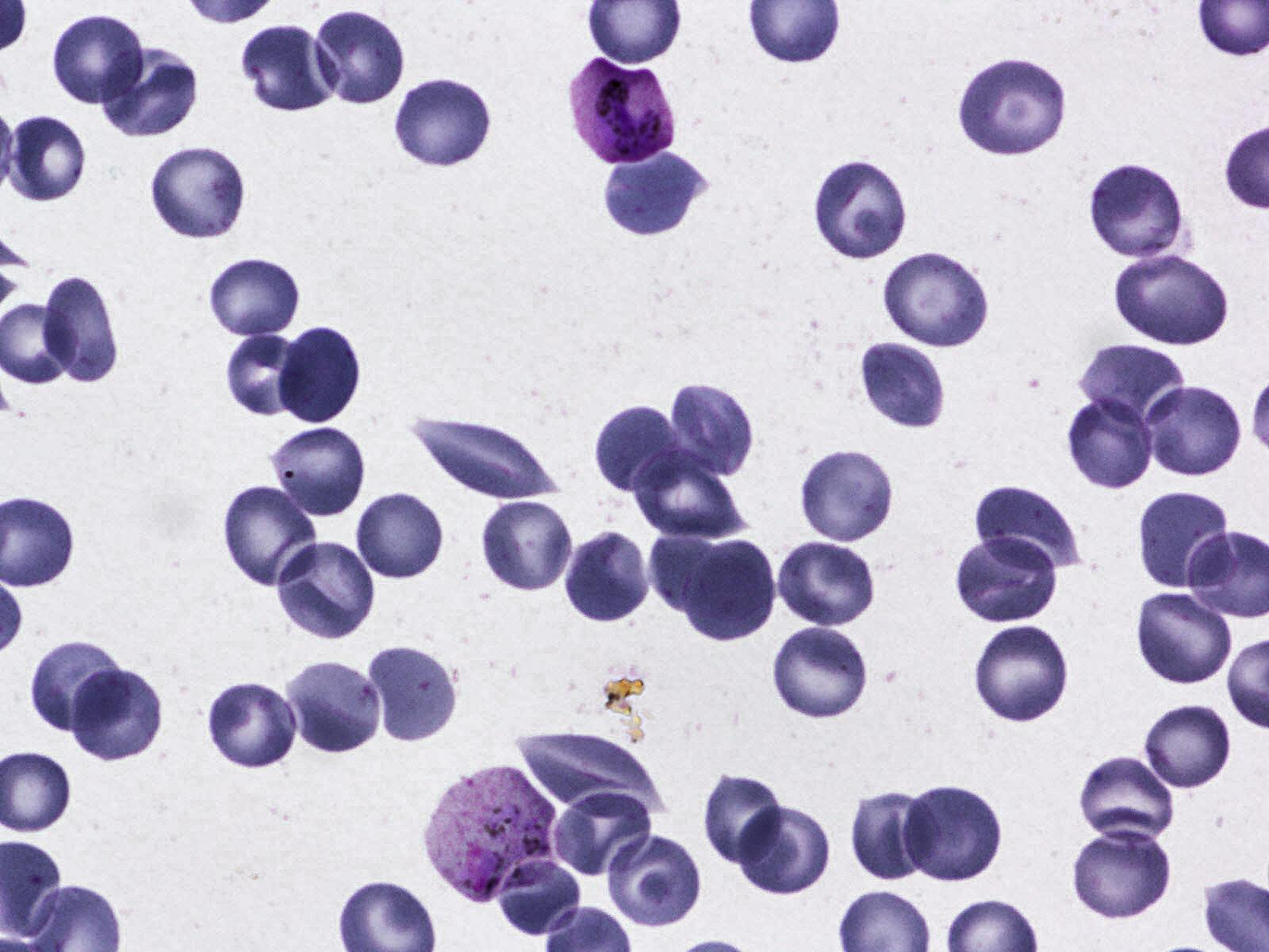Infected: (427, 765, 561, 909), (569, 56, 677, 166)
Uninfected: (510, 730, 668, 817), (897, 781, 1009, 886), (954, 59, 1068, 159), (879, 250, 992, 350), (417, 416, 560, 493), (224, 482, 324, 589), (274, 543, 378, 643), (361, 640, 461, 743), (634, 448, 748, 538), (1117, 254, 1227, 347), (592, 402, 691, 505), (148, 142, 251, 240), (970, 484, 1086, 570), (1141, 382, 1244, 478), (29, 639, 132, 735), (241, 20, 347, 113), (798, 444, 895, 545), (770, 624, 872, 720), (268, 422, 370, 518), (1078, 344, 1189, 432), (957, 533, 1063, 625), (974, 624, 1069, 726), (815, 159, 909, 261), (67, 668, 164, 766), (312, 7, 408, 106), (479, 497, 574, 596), (604, 833, 704, 927), (685, 541, 777, 643), (658, 382, 755, 478), (285, 661, 383, 756), (1086, 160, 1184, 255), (1137, 591, 1236, 685), (1073, 826, 1172, 920), (395, 76, 495, 169), (98, 47, 200, 138), (1140, 493, 1234, 591), (53, 10, 146, 107), (730, 805, 833, 892), (39, 274, 120, 383), (562, 528, 653, 625), (1078, 754, 1176, 844), (551, 792, 650, 881), (776, 543, 879, 628), (203, 678, 299, 768), (1065, 397, 1156, 491), (604, 149, 700, 238), (1143, 701, 1236, 792), (851, 790, 940, 885), (356, 489, 448, 579), (207, 258, 305, 342), (855, 340, 946, 428), (277, 326, 362, 420), (3, 110, 90, 201), (645, 530, 731, 620), (704, 774, 785, 869), (227, 333, 309, 423), (496, 854, 580, 940)
